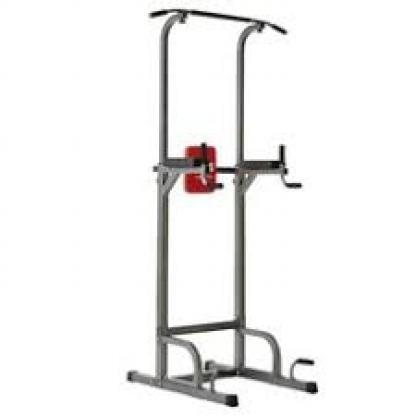chinning dipping: (126, 7, 318, 407)
